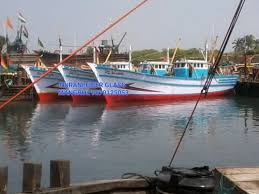boat: (57, 34, 175, 104), (22, 45, 138, 105), (88, 59, 240, 103)
